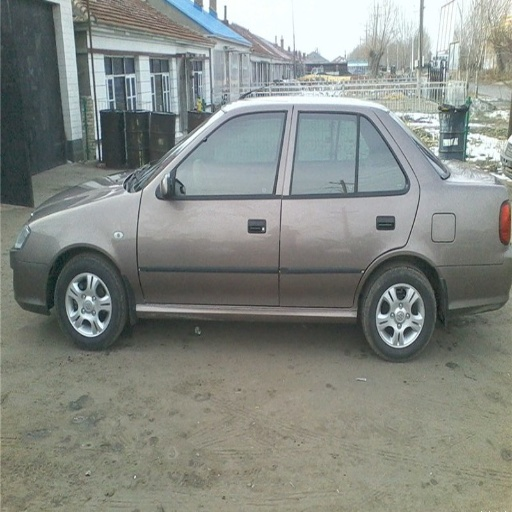back_left_door: (278, 105, 418, 308)
